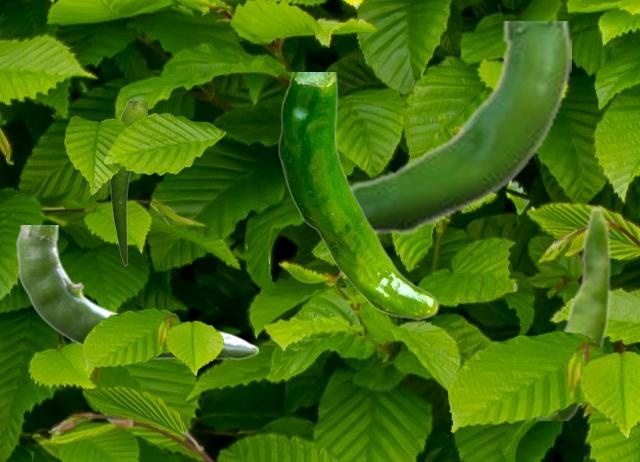green_chili: (349, 21, 570, 236), (278, 72, 438, 319), (16, 225, 257, 360), (536, 204, 611, 419), (109, 101, 146, 265)
